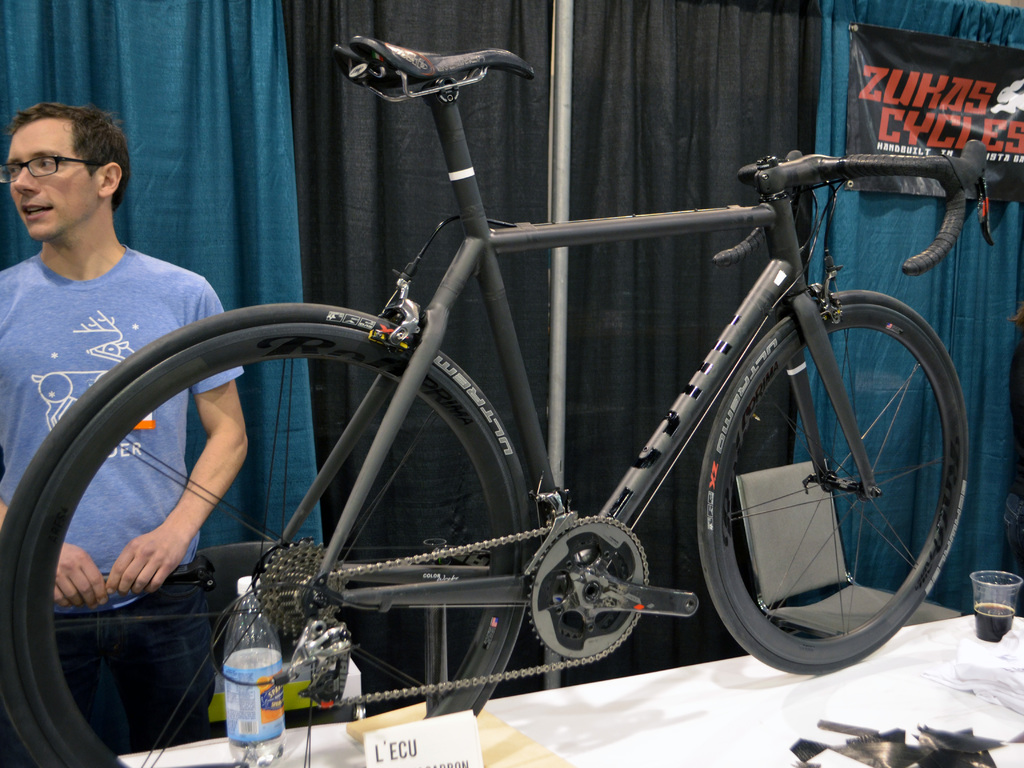Bike: (107, 69, 980, 714)
